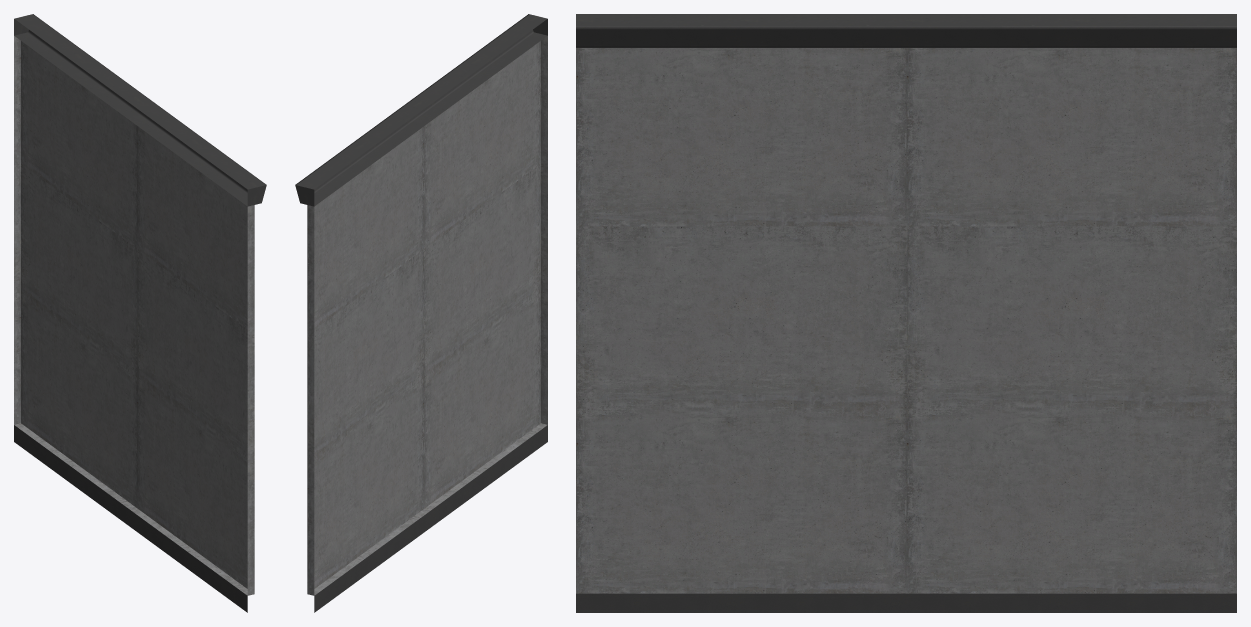
Rendered from SM_dev_wall_400_x_400.fbx.
3 renders of one model, left to right at view 1: azimuth 30°, elevation 25°; view 2: azimuth 150°, elevation 25°; view 3: azimuth 270°, elevation 25°, orthographic. The views are drawn at different scales.
Visible parts, largest first — view 1: polySurface680, polySurface681; view 2: polySurface680, polySurface681; view 3: polySurface680, polySurface681.
Part boxes in pixels (x1=…): polySurface680: x1=14, y1=36, x2=254, y2=595; polySurface681: x1=14, y1=14, x2=266, y2=612; polySurface680: x1=307, y1=36, x2=547, y2=595; polySurface681: x1=295, y1=14, x2=547, y2=612; polySurface680: x1=576, y1=48, x2=1236, y2=593; polySurface681: x1=576, y1=14, x2=1236, y2=612.
Size of the model in its own units: 0.1891 by 4 by 4.
